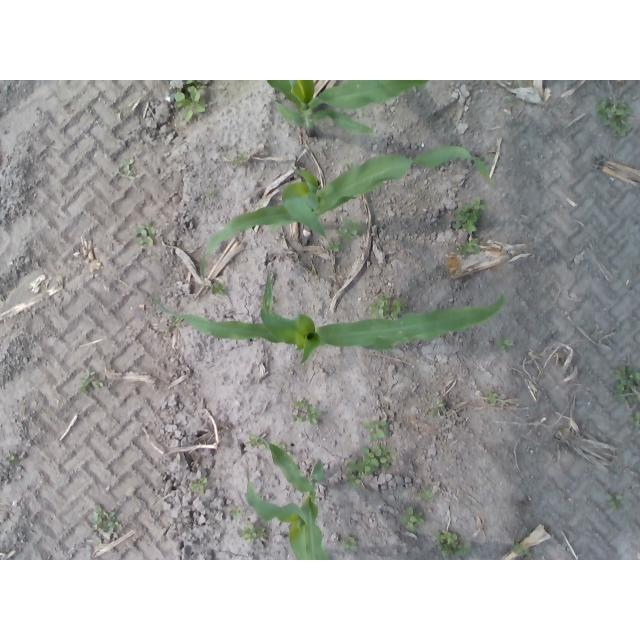Maize: (200, 145, 496, 279), (150, 270, 507, 364), (246, 438, 339, 560), (267, 80, 430, 138)
Weeds: (599, 97, 633, 136), (174, 87, 206, 126), (614, 365, 640, 411), (349, 449, 388, 476), (454, 196, 483, 232), (435, 531, 469, 560), (293, 398, 324, 422), (371, 295, 402, 317), (93, 505, 119, 527), (79, 374, 106, 394), (241, 523, 267, 542), (404, 506, 425, 528), (367, 419, 391, 438), (137, 224, 156, 244), (337, 220, 359, 237), (429, 398, 447, 418), (187, 479, 209, 493), (458, 237, 479, 251), (120, 157, 136, 175), (510, 543, 530, 557), (341, 537, 358, 552), (498, 337, 515, 351), (606, 487, 623, 501), (211, 281, 226, 296), (246, 438, 264, 450), (328, 237, 342, 252), (629, 413, 640, 430), (418, 489, 435, 500), (486, 391, 499, 405), (348, 473, 360, 487)
